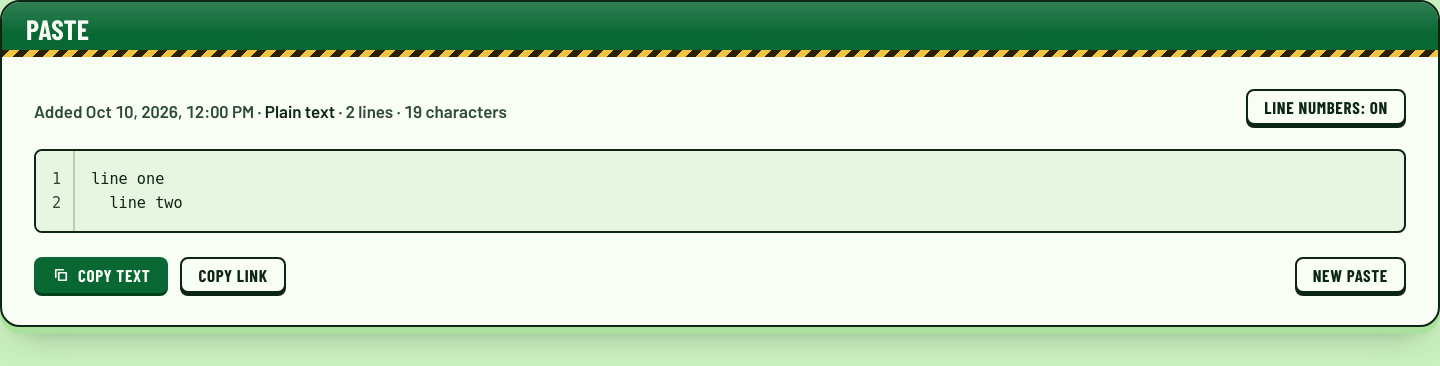
Scenario: PasteViewer › copies the text and the link
Click the button "Copy text" at (101,275), box [34,257,168,293]
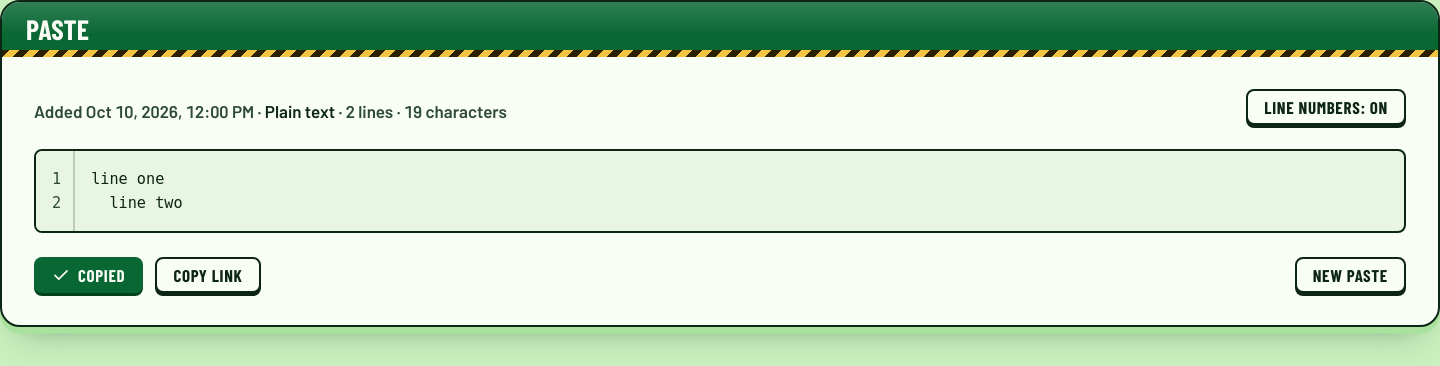
Expected: the button "Copied" is shown, [34,257,143,293]
Click the button "Copy link" at (208,275), box [155,257,261,293]
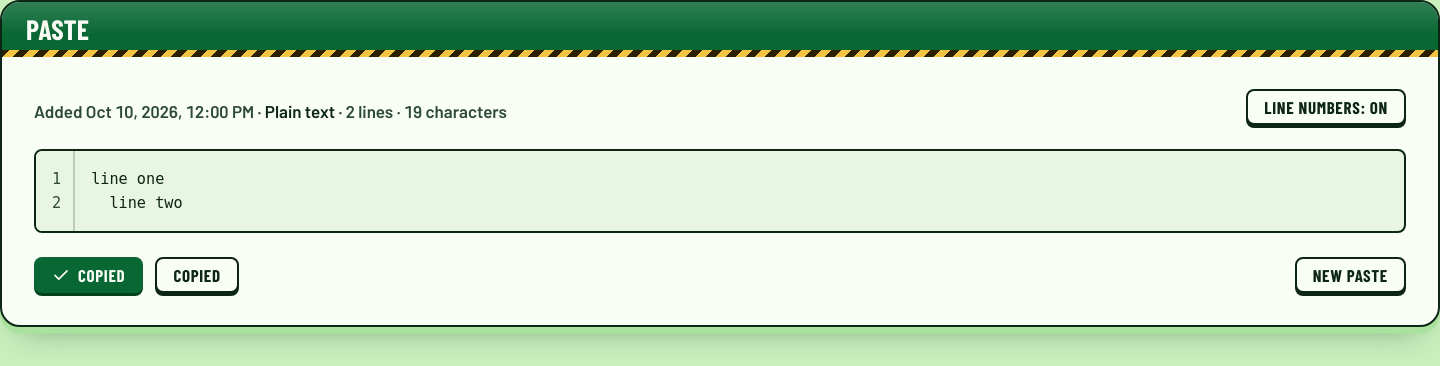
Expected: the 2nd button "Copied" is shown, [155,257,239,293]
